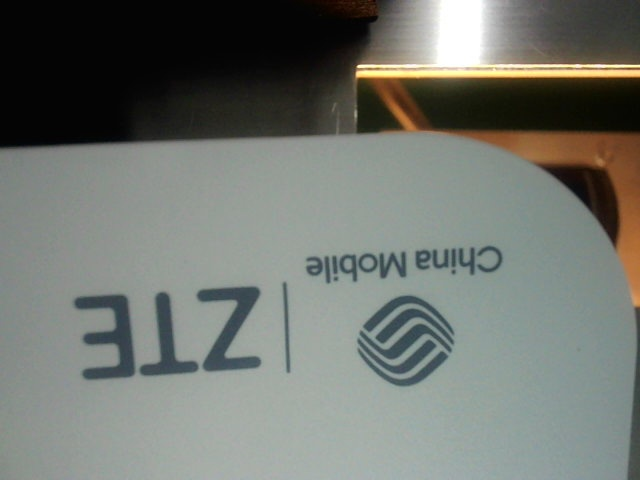AL_ZTEChinaMobile: (60, 241, 516, 388)
